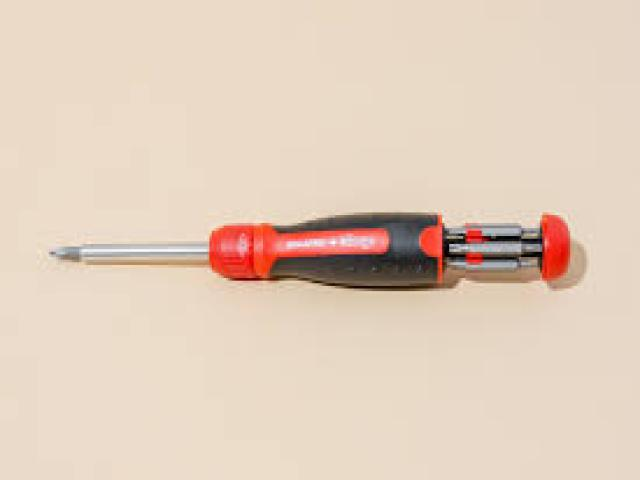Screwdriver: (51, 213, 570, 287)
